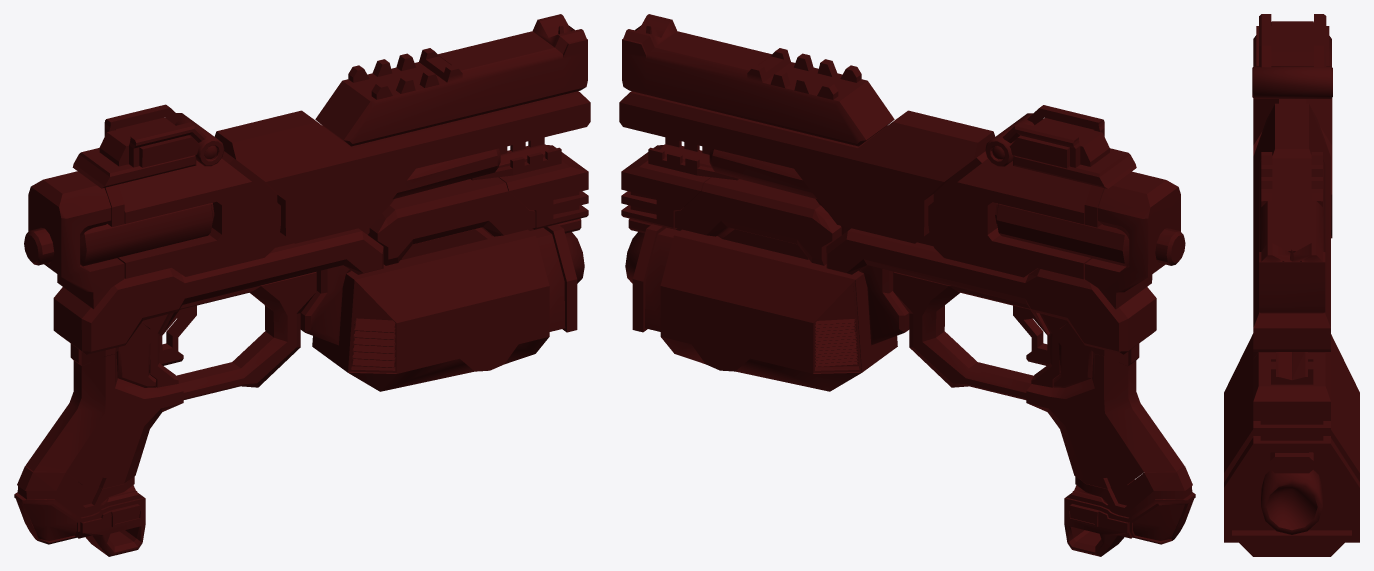
3 views of the same model, side by side, from view 1: azimuth 30°, elevation 25°; view 2: azimuth 150°, elevation 25°; view 3: azimuth 270°, elevation 25° (orthographic). The views are drawn at different scales.
Parts seen in each view (by area): view 1: gun_low; view 2: gun_low; view 3: gun_low.
Boxes of the visible parts, <box> form: gun_low: <box>14,14,590,556</box>; gun_low: <box>619,14,1195,556</box>; gun_low: <box>1224,14,1359,556</box>.
Bounding box in the file's own units: 26.73 × 19.15 × 5.23.
